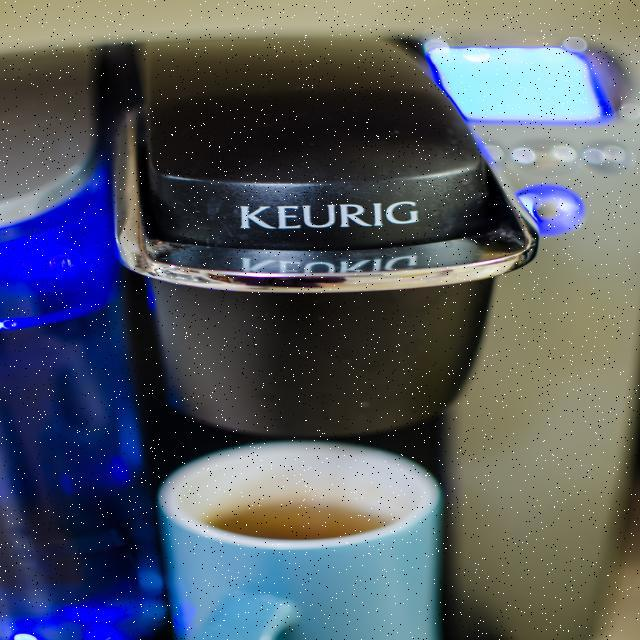Coffee-Machine: (99, 0, 562, 448)
